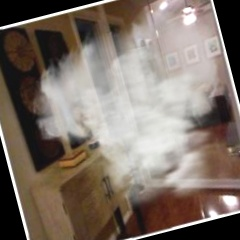smoke: (69, 17, 235, 180)
